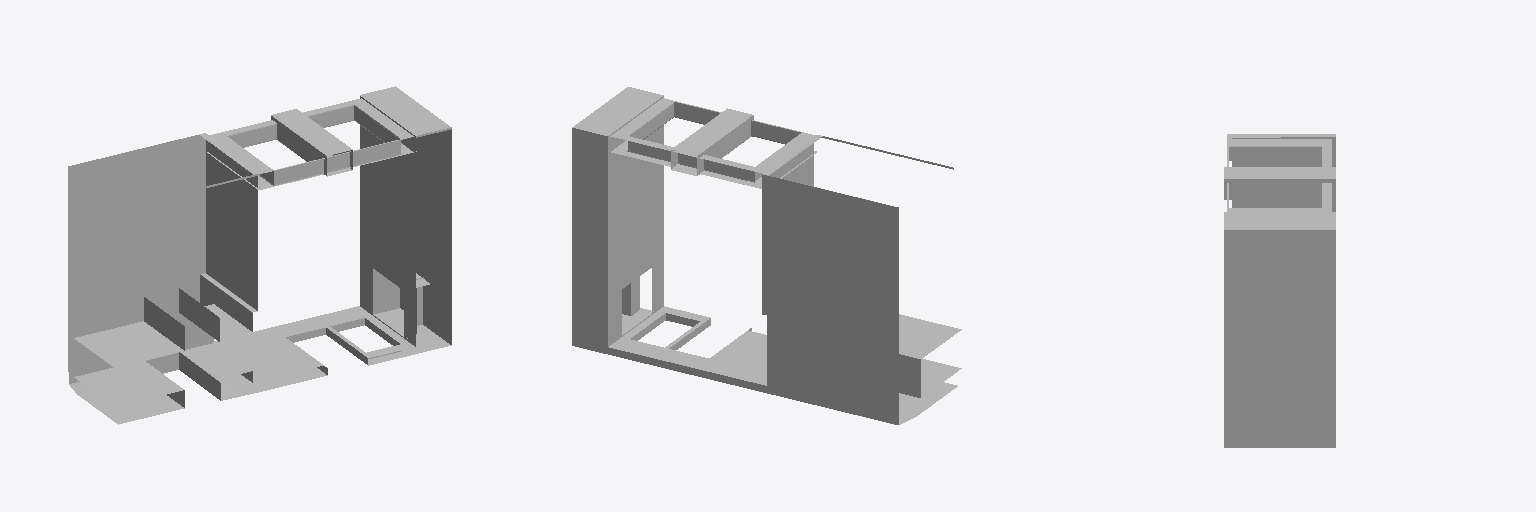
File: SM_wall_0 (1).obj
The picture shows the model from 3 angles: view 1: azimuth 30°, elevation 25°; view 2: azimuth 150°, elevation 25°; view 3: azimuth 270°, elevation 25°; orthographic projection.
Visible parts, largest first — view 1: SM_wall_0 (1); view 2: SM_wall_0 (1); view 3: SM_wall_0 (1).
Boxes of the visible parts, x1=… form: SM_wall_0 (1): x1=68, y1=86, x2=451, y2=424; SM_wall_0 (1): x1=572, y1=87, x2=961, y2=424; SM_wall_0 (1): x1=1224, y1=134, x2=1335, y2=447.
Size of the model in its own units: 9.97 by 6.25 by 2.9.